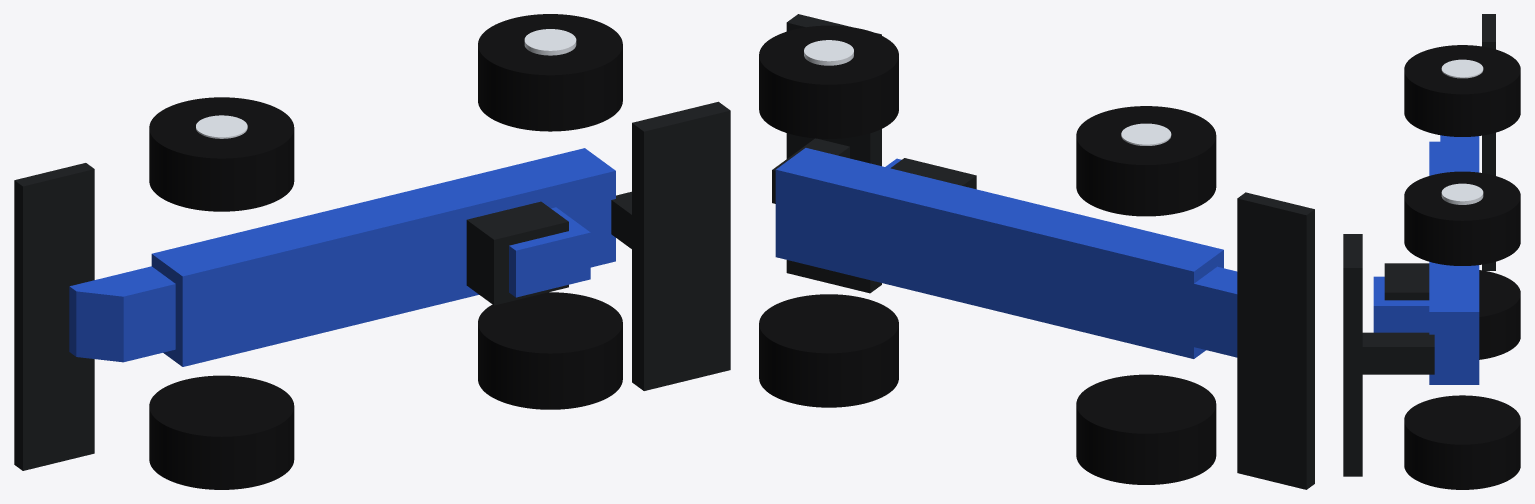
File: Race2_OpenWheel.obj
3 views of the same model, side by side, from view 1: azimuth 30°, elevation 25°; view 2: azimuth 150°, elevation 25°; view 3: azimuth 270°, elevation 25° (orthographic). The views are drawn at different scales.
Visible parts, largest first — view 1: Chassis, RWing, FWing, WheelRL, WheelFL, WheelRR, WheelFR, Nose, Headrest, Airbox, HubRR, HubFR (+1 smaller); view 2: Chassis, FWing, WheelRL, WheelFL, WheelRR, WheelFR, Nose, RWing, Headrest, HubRR, HubFR, RWPillar; view 3: WheelRL, WheelRR, WheelFR, Chassis, RWing, WheelFL, RWPillar, Airbox, Headrest, FWing, HubRR, HubFR (+1 smaller).
Boxes of the visible parts, x1,y1,x2,y2 form: Chassis: (151, 148, 615, 366); RWing: (632, 101, 730, 390); FWing: (14, 163, 94, 470); WheelRL: (478, 292, 622, 409); WheelFL: (149, 375, 294, 489); WheelRR: (478, 14, 622, 131); WheelFR: (149, 97, 294, 211); Nose: (69, 266, 175, 362); Headrest: (466, 201, 568, 305); Airbox: (509, 207, 590, 297); HubRR: (524, 29, 576, 55); HubFR: (196, 115, 247, 138); Chassis: (775, 148, 1223, 358); FWing: (1237, 192, 1314, 489); WheelRL: (759, 294, 898, 407); WheelFL: (1076, 374, 1216, 484); WheelRR: (759, 25, 898, 138); WheelFR: (1076, 106, 1216, 216); Nose: (1158, 266, 1237, 357); RWing: (786, 14, 881, 293); Headrest: (890, 158, 976, 189); HubRR: (804, 40, 853, 65); HubFR: (1121, 123, 1171, 145); RWPillar: (772, 138, 849, 203); WheelRL: (1404, 395, 1520, 489); WheelRR: (1404, 171, 1520, 265); WheelFR: (1404, 45, 1520, 136); Chassis: (1429, 141, 1479, 384); RWing: (1343, 234, 1362, 476); WheelFL: (1479, 270, 1520, 359); RWPillar: (1362, 332, 1434, 374); Airbox: (1373, 276, 1429, 332); Headrest: (1384, 263, 1429, 300); FWing: (1482, 14, 1495, 270); HubRR: (1441, 183, 1483, 204); HubFR: (1441, 59, 1483, 78).
Size of the model in its own units: 4.16 by 2.21 by 1.28.
